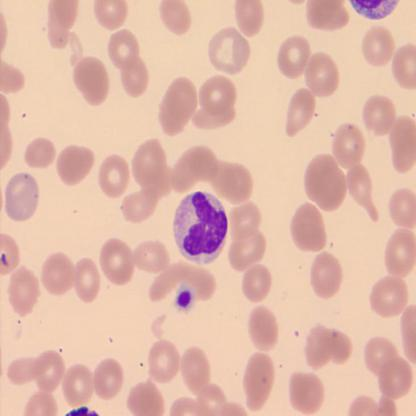Segmented neutrophil: (171, 188, 229, 266)
